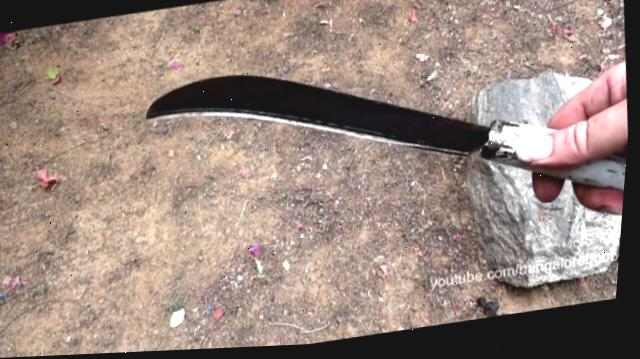long knife: (128, 15, 638, 306)
